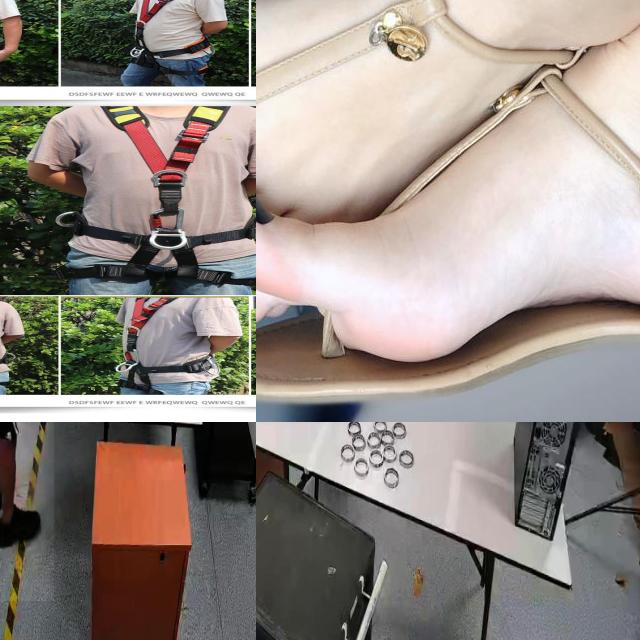Barefoots: (256, 43, 640, 358), (256, 0, 640, 201)
Harness: (87, 106, 245, 282)
shoes: (0, 496, 43, 549)
